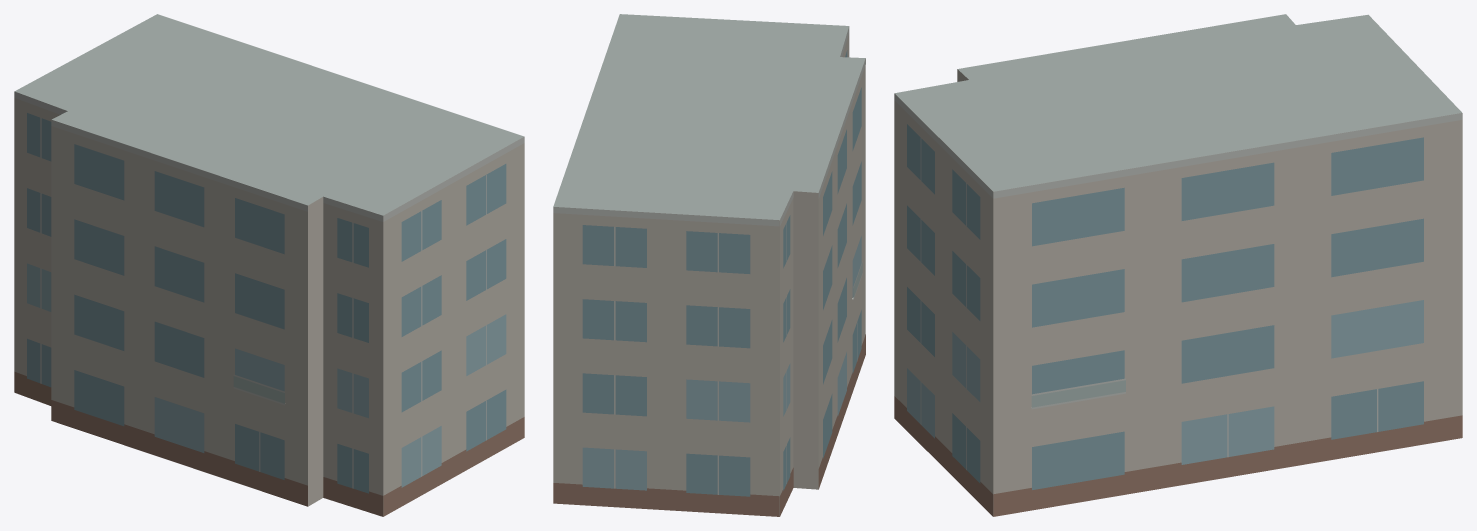
The model's file is survey-upis-32750462.glb.
The picture shows the model from 3 angles, left to right: view 1: azimuth 30°, elevation 25°; view 2: azimuth 150°, elevation 25°; view 3: azimuth 270°, elevation 25°; orthographic projection. The views are drawn at different scales.
Visible parts, largest first — view 1: survey-upis-32750462.tmp; view 2: survey-upis-32750462.tmp; view 3: survey-upis-32750462.tmp.
Boxes of the visible parts, bbox=[...] form: survey-upis-32750462.tmp: bbox=[14, 14, 524, 516]; survey-upis-32750462.tmp: bbox=[553, 14, 865, 516]; survey-upis-32750462.tmp: bbox=[894, 14, 1462, 516].
Bounding box in the file's own units: 13.5 × 11.5 × 18.22.
